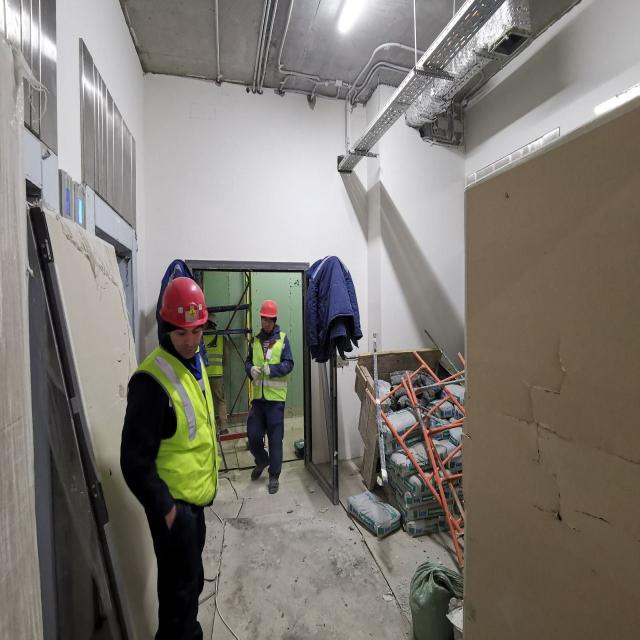Helmet: (162, 280, 209, 327), (259, 301, 279, 321), (209, 315, 219, 328)
Jacket: (138, 350, 214, 494), (252, 335, 288, 403), (206, 337, 227, 377)
